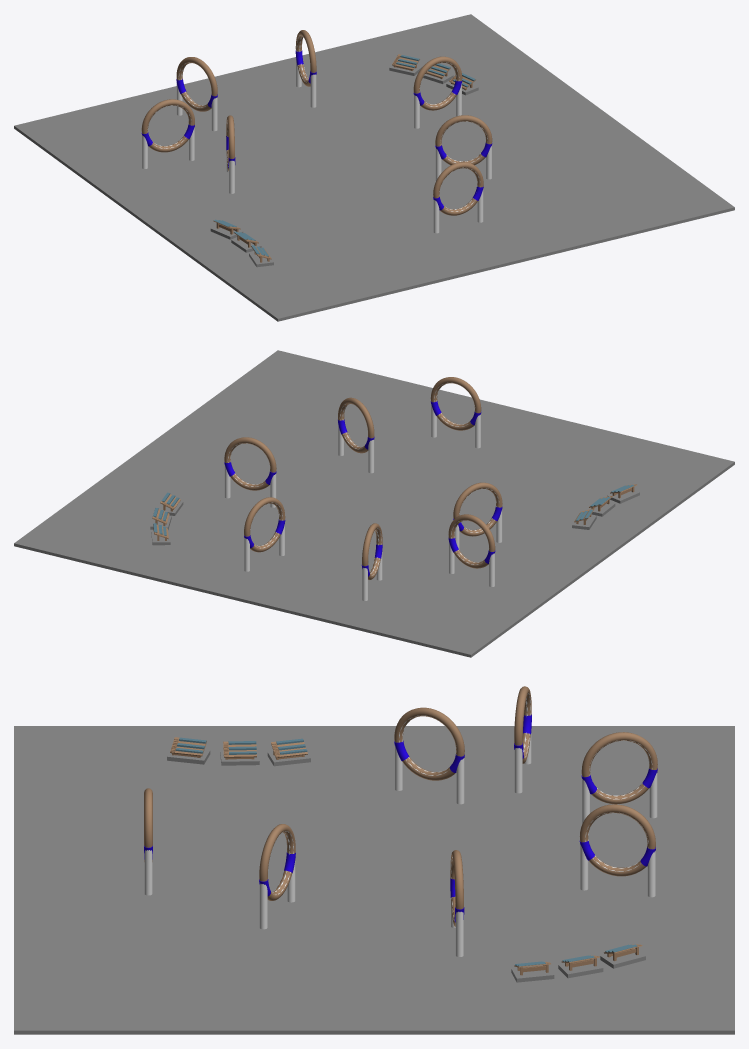
The model's file is test_course.glb.
3 views of the same model, one above another, from view 1: azimuth 30°, elevation 25°; view 2: azimuth 150°, elevation 25°; view 3: azimuth 270°, elevation 25° (orthographic). The views are drawn at different scales.
Parts seen in each view (by area): view 1: Floor, Checkpoint.Mesh.001, Checkpoint.Mesh.006, Checkpoint.Mesh.003, Checkpoint.Mesh, Checkpoint.Mesh.005, Checkpoint.Mesh.004, Checkpoint.Mesh.007; view 2: Floor, Checkpoint.Mesh.003, Checkpoint.Mesh.001, Checkpoint.Mesh.006, Checkpoint.Mesh.004, Checkpoint.Mesh, Checkpoint.Mesh.007, Checkpoint.Mesh.005; view 3: Floor, Checkpoint.Mesh.004, Checkpoint.Mesh.007, Checkpoint.Mesh.005, Checkpoint.Mesh, Checkpoint.Mesh.006, Checkpoint.Mesh.003, Checkpoint.Mesh.001, Seats.Mesh.001, Seats.Mesh.003, Seats.Mesh.002, Seats.Mesh.004 (+2 smaller).
Boxes of the visible parts, bbox=[...] form: Floor: bbox=[14, 14, 734, 321]; Checkpoint.Mesh.001: bbox=[433, 162, 483, 233]; Checkpoint.Mesh.006: bbox=[141, 99, 194, 168]; Checkpoint.Mesh.003: bbox=[413, 56, 462, 128]; Checkpoint.Mesh: bbox=[435, 115, 492, 180]; Checkpoint.Mesh.005: bbox=[176, 57, 217, 131]; Checkpoint.Mesh.004: bbox=[295, 30, 316, 107]; Checkpoint.Mesh.007: bbox=[226, 115, 235, 193]; Floor: bbox=[14, 350, 734, 657]; Checkpoint.Mesh.003: bbox=[224, 437, 276, 507]; Checkpoint.Mesh.001: bbox=[430, 377, 481, 448]; Checkpoint.Mesh.006: bbox=[448, 514, 495, 586]; Checkpoint.Mesh.004: bbox=[244, 497, 285, 571]; Checkpoint.Mesh: bbox=[338, 397, 374, 473]; Checkpoint.Mesh.007: bbox=[453, 482, 502, 549]; Checkpoint.Mesh.005: bbox=[361, 523, 382, 600]; Floor: bbox=[14, 726, 734, 1034]; Checkpoint.Mesh.004: bbox=[579, 804, 655, 897]; Checkpoint.Mesh.007: bbox=[394, 707, 464, 804]; Checkpoint.Mesh.005: bbox=[581, 732, 657, 823]; Checkpoint.Mesh: bbox=[259, 824, 295, 929]; Checkpoint.Mesh.006: bbox=[514, 686, 531, 793]; Checkpoint.Mesh.003: bbox=[450, 850, 464, 956]; Checkpoint.Mesh.001: bbox=[144, 788, 152, 895]; Seats.Mesh.001: bbox=[267, 738, 310, 766]; Seats.Mesh.003: bbox=[167, 737, 210, 764]; Seats.Mesh.002: bbox=[220, 741, 259, 765]; Seats.Mesh.004: bbox=[600, 944, 645, 968].
Size of the model in its own units: 166 by 25.72 by 166.
